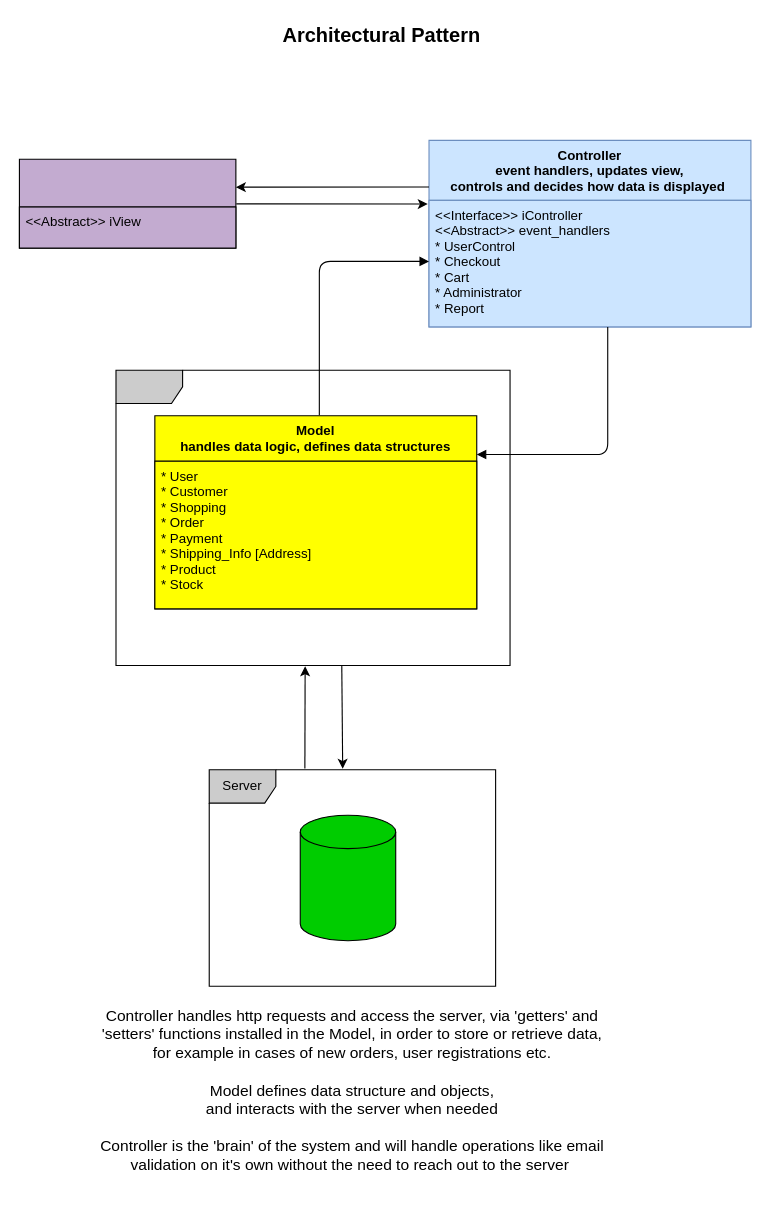
Image size: 770x1211. Some labels were removed from this diagram. The box of each missing label's shape, as (x1, y1, x2, y2) in pixels:
Client: (115, 369, 510, 665)
database: (299, 814, 396, 941)
View represents current system state: (18, 158, 236, 248)
